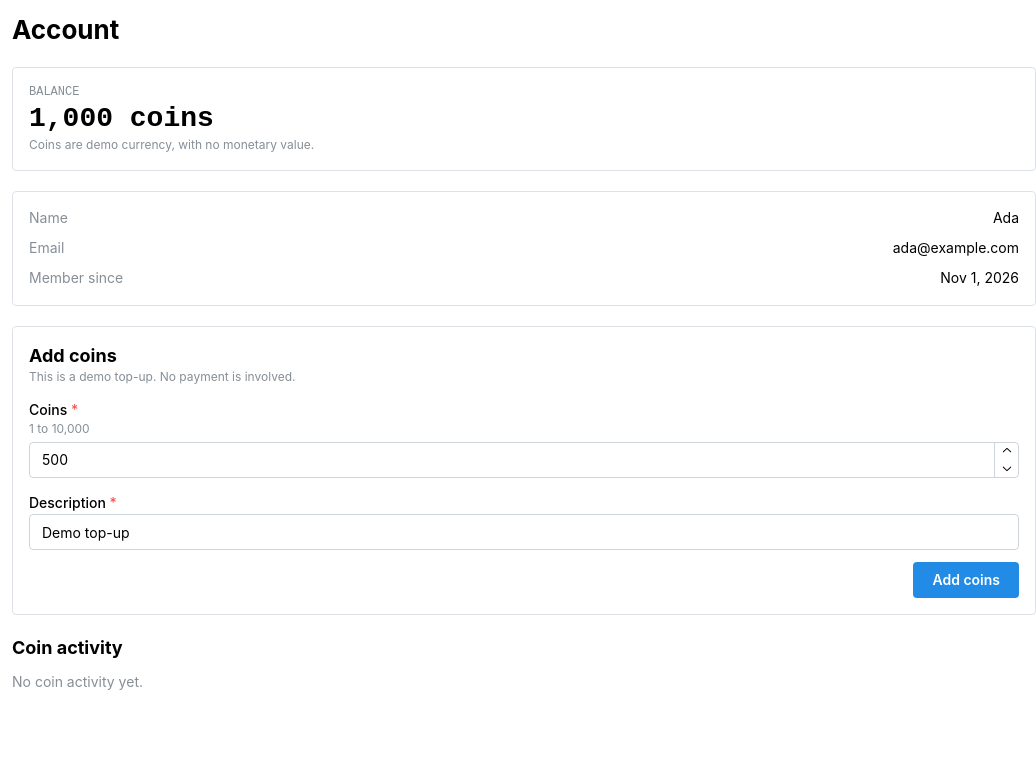
ChargeForm › charges the amount in the form and shows the new balance
expect the text "1,000 coins" is shown: met, box [29,103,214,134]
Click the button "Add coins" at (966, 580), box [913,562,1019,598]
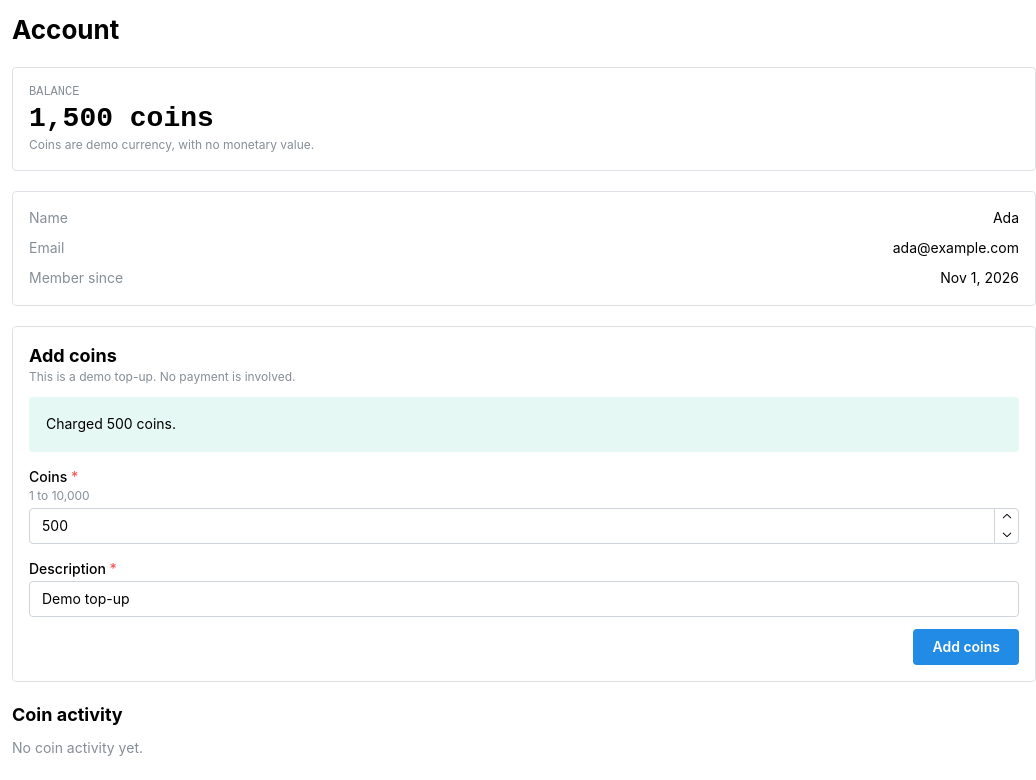
expect the text "Charged 500 coins." is shown: met, box [46,416,176,432]
expect the text "1,500 coins" is shown: met, box [29,103,214,134]
